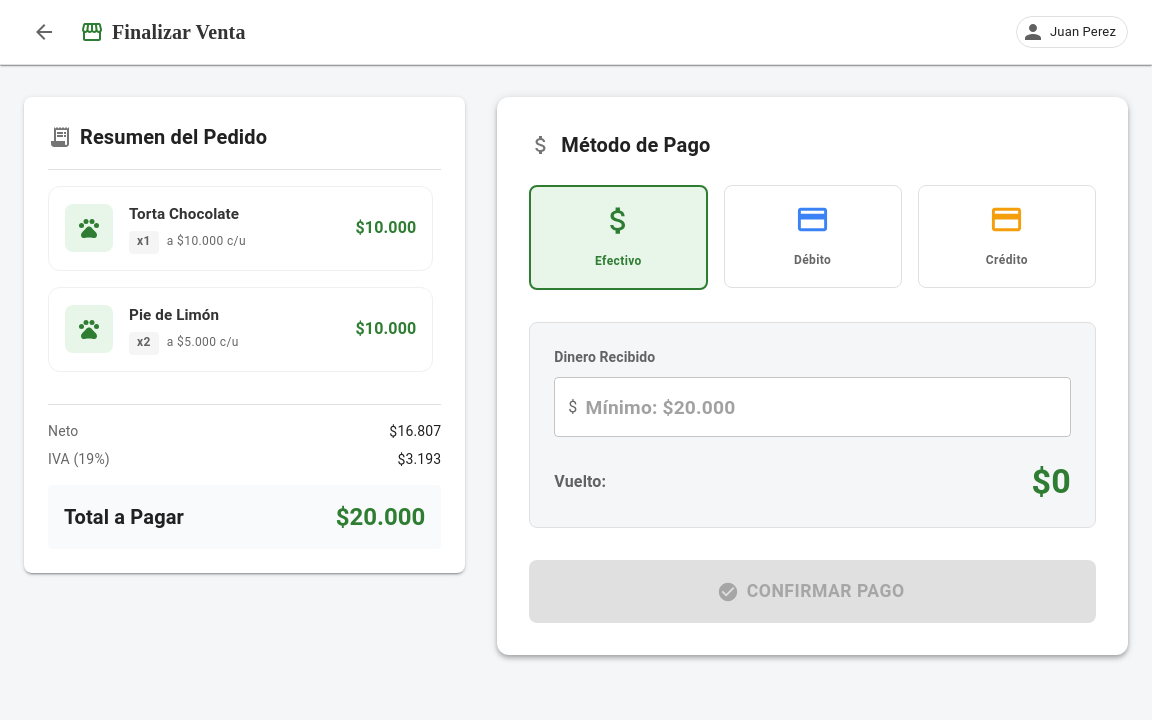
Scenario: Boleta Component › handles cash payment calculation
Type "10000" into the number field with placeholder "Mínimo: $20.000".
click(828, 407); type("10000")  # box left=586, top=377, right=1071, bottom=438
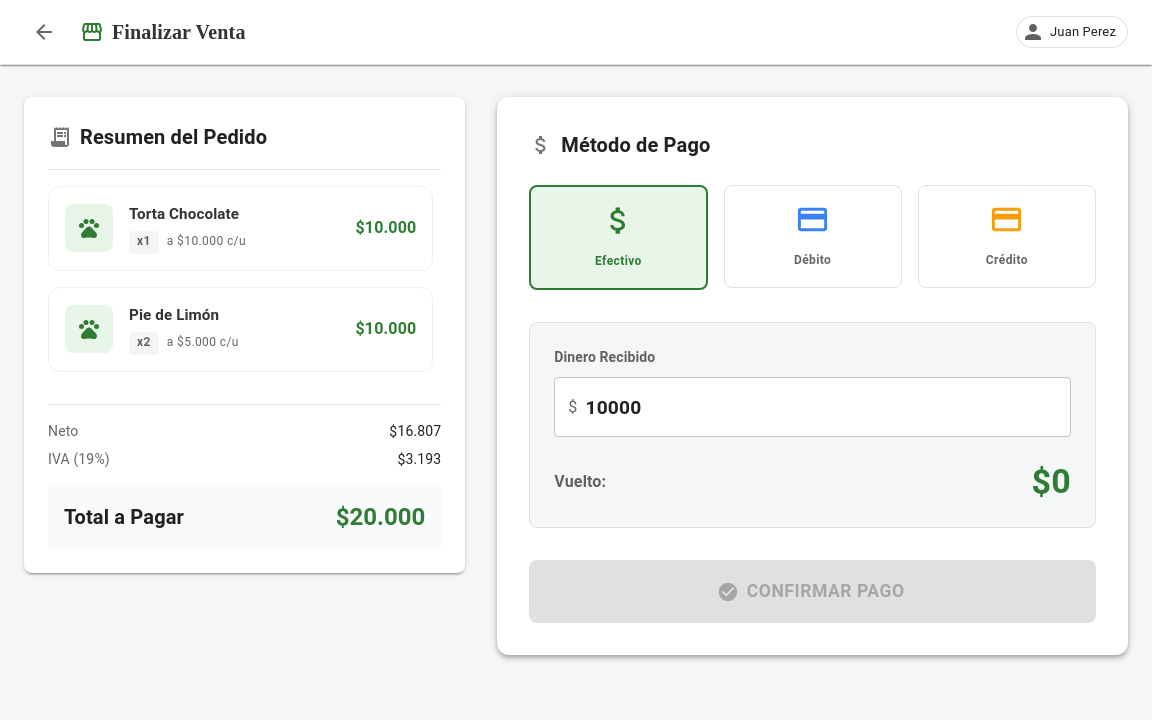
Expected: the heading "$0" is shown, left=1032, top=462, right=1071, bottom=504
Replace the text in the number field with "25000" at (828, 407), box left=586, top=377, right=1071, bottom=438
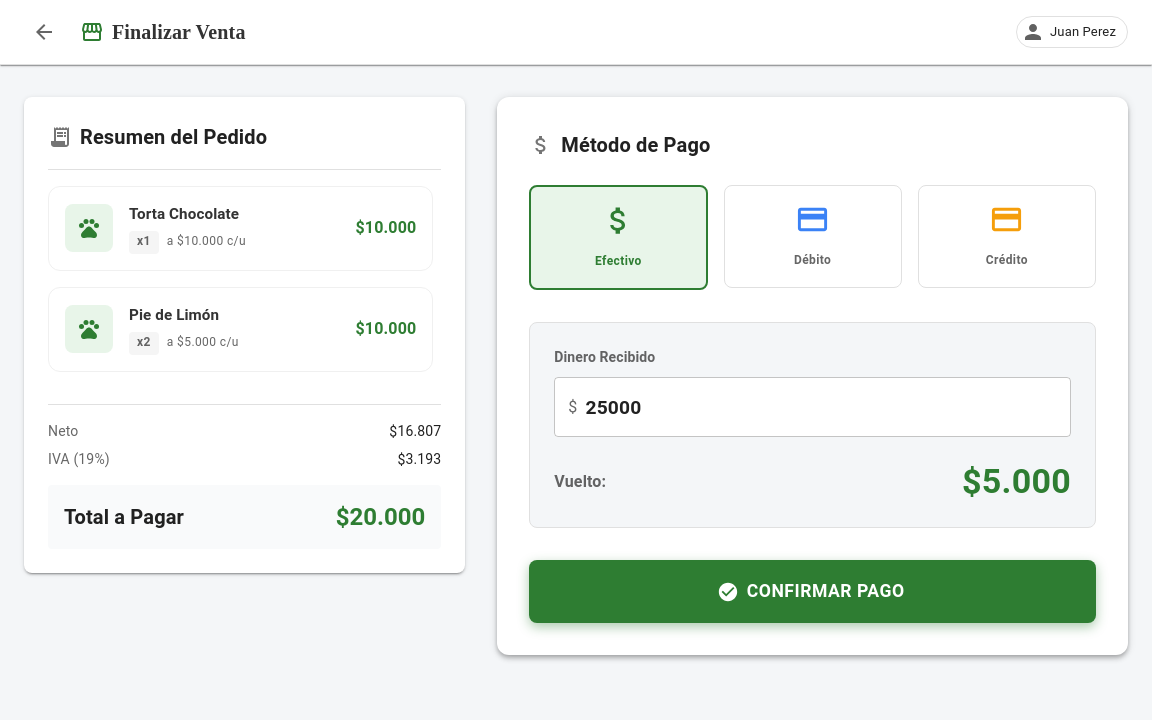
Expected: the heading "$5.000" is shown, left=962, top=462, right=1071, bottom=504
